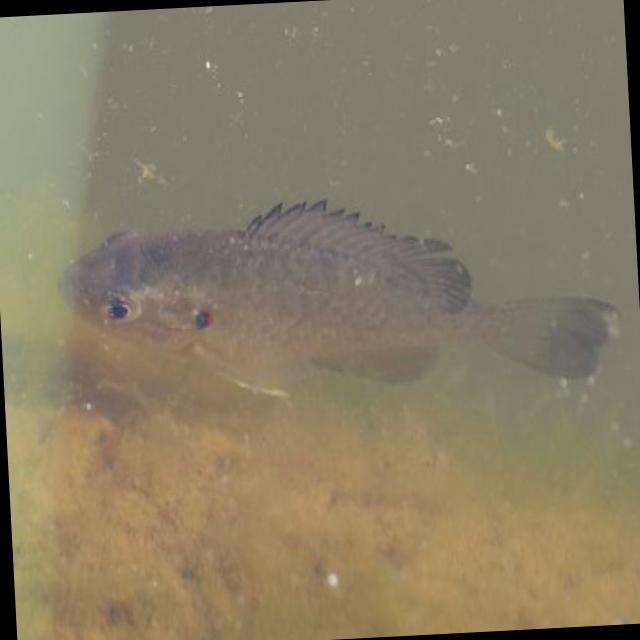Gunes Levregi: (23, 171, 630, 438)
